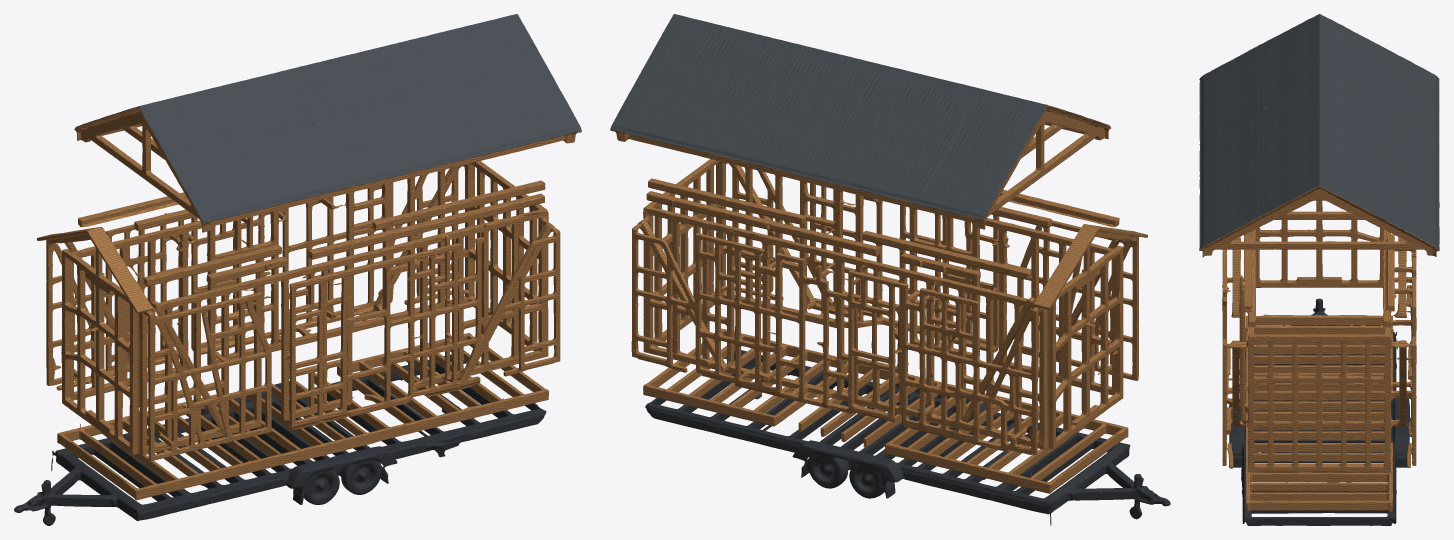
Rendered from chale-texturizado-web.glb.
3 renders of one model, left to right at view 1: azimuth 30°, elevation 25°; view 2: azimuth 150°, elevation 25°; view 3: azimuth 270°, elevation 25°, orthographic. The views are drawn at different scales.
Parts seen in each view (by area): view 1: Paineis estruturais, Cobertura e tesouras, Base e chassi, Piso estrutural, Travessa 010, Travessa 011, Travessa 003, Travessa 005, Travessa 004, Travessa 008; view 2: Paineis estruturais, Cobertura e tesouras, Base e chassi, Piso estrutural, Travessa 009, Travessa 005, Travessa 012, Travessa 003, Travessa 007; view 3: Cobertura e tesouras, Piso estrutural, Paineis estruturais, Base e chassi, Travessa 011, Travessa 012, Travessa 004, Travessa 010, Travessa 009.
Part boxes in pixels (x1,y1,x2,y2): Paineis estruturais: (37,161,560,460); Cobertura e tesouras: (74,14,581,232); Base e chassi: (14,354,546,525); Piso estrutural: (57,333,548,500); Travessa 010: (308,193,544,259); Travessa 011: (356,180,545,233); Travessa 003: (143,245,287,286); Travessa 005: (78,192,187,227); Travessa 004: (150,301,225,435); Travessa 008: (206,256,287,284); Paineis estruturais: (631,159,1147,454); Cobertura e tesouras: (610,14,1110,229); Base e chassi: (645,350,1170,525); Piso estrutural: (643,328,1128,493); Travessa 009: (646,191,880,256); Travessa 005: (862,230,1031,279); Travessa 012: (648,178,805,224); Travessa 003: (999,189,1119,227); Travessa 007: (901,253,980,280); Cobertura e tesouras: (1199,14,1439,257); Piso estrutural: (1245,314,1392,511); Paineis estruturais: (1222,200,1416,472); Base e chassi: (1229,298,1410,525); Travessa 011: (1244,232,1253,311); Travessa 012: (1385,234,1394,311); Travessa 004: (1231,236,1240,317); Travessa 010: (1248,229,1255,327); Travessa 009: (1383,229,1391,327).
Bounding box in the file's own units: 1.86 × 1.4 × 0.8275.
3 materials, 1 textured.
